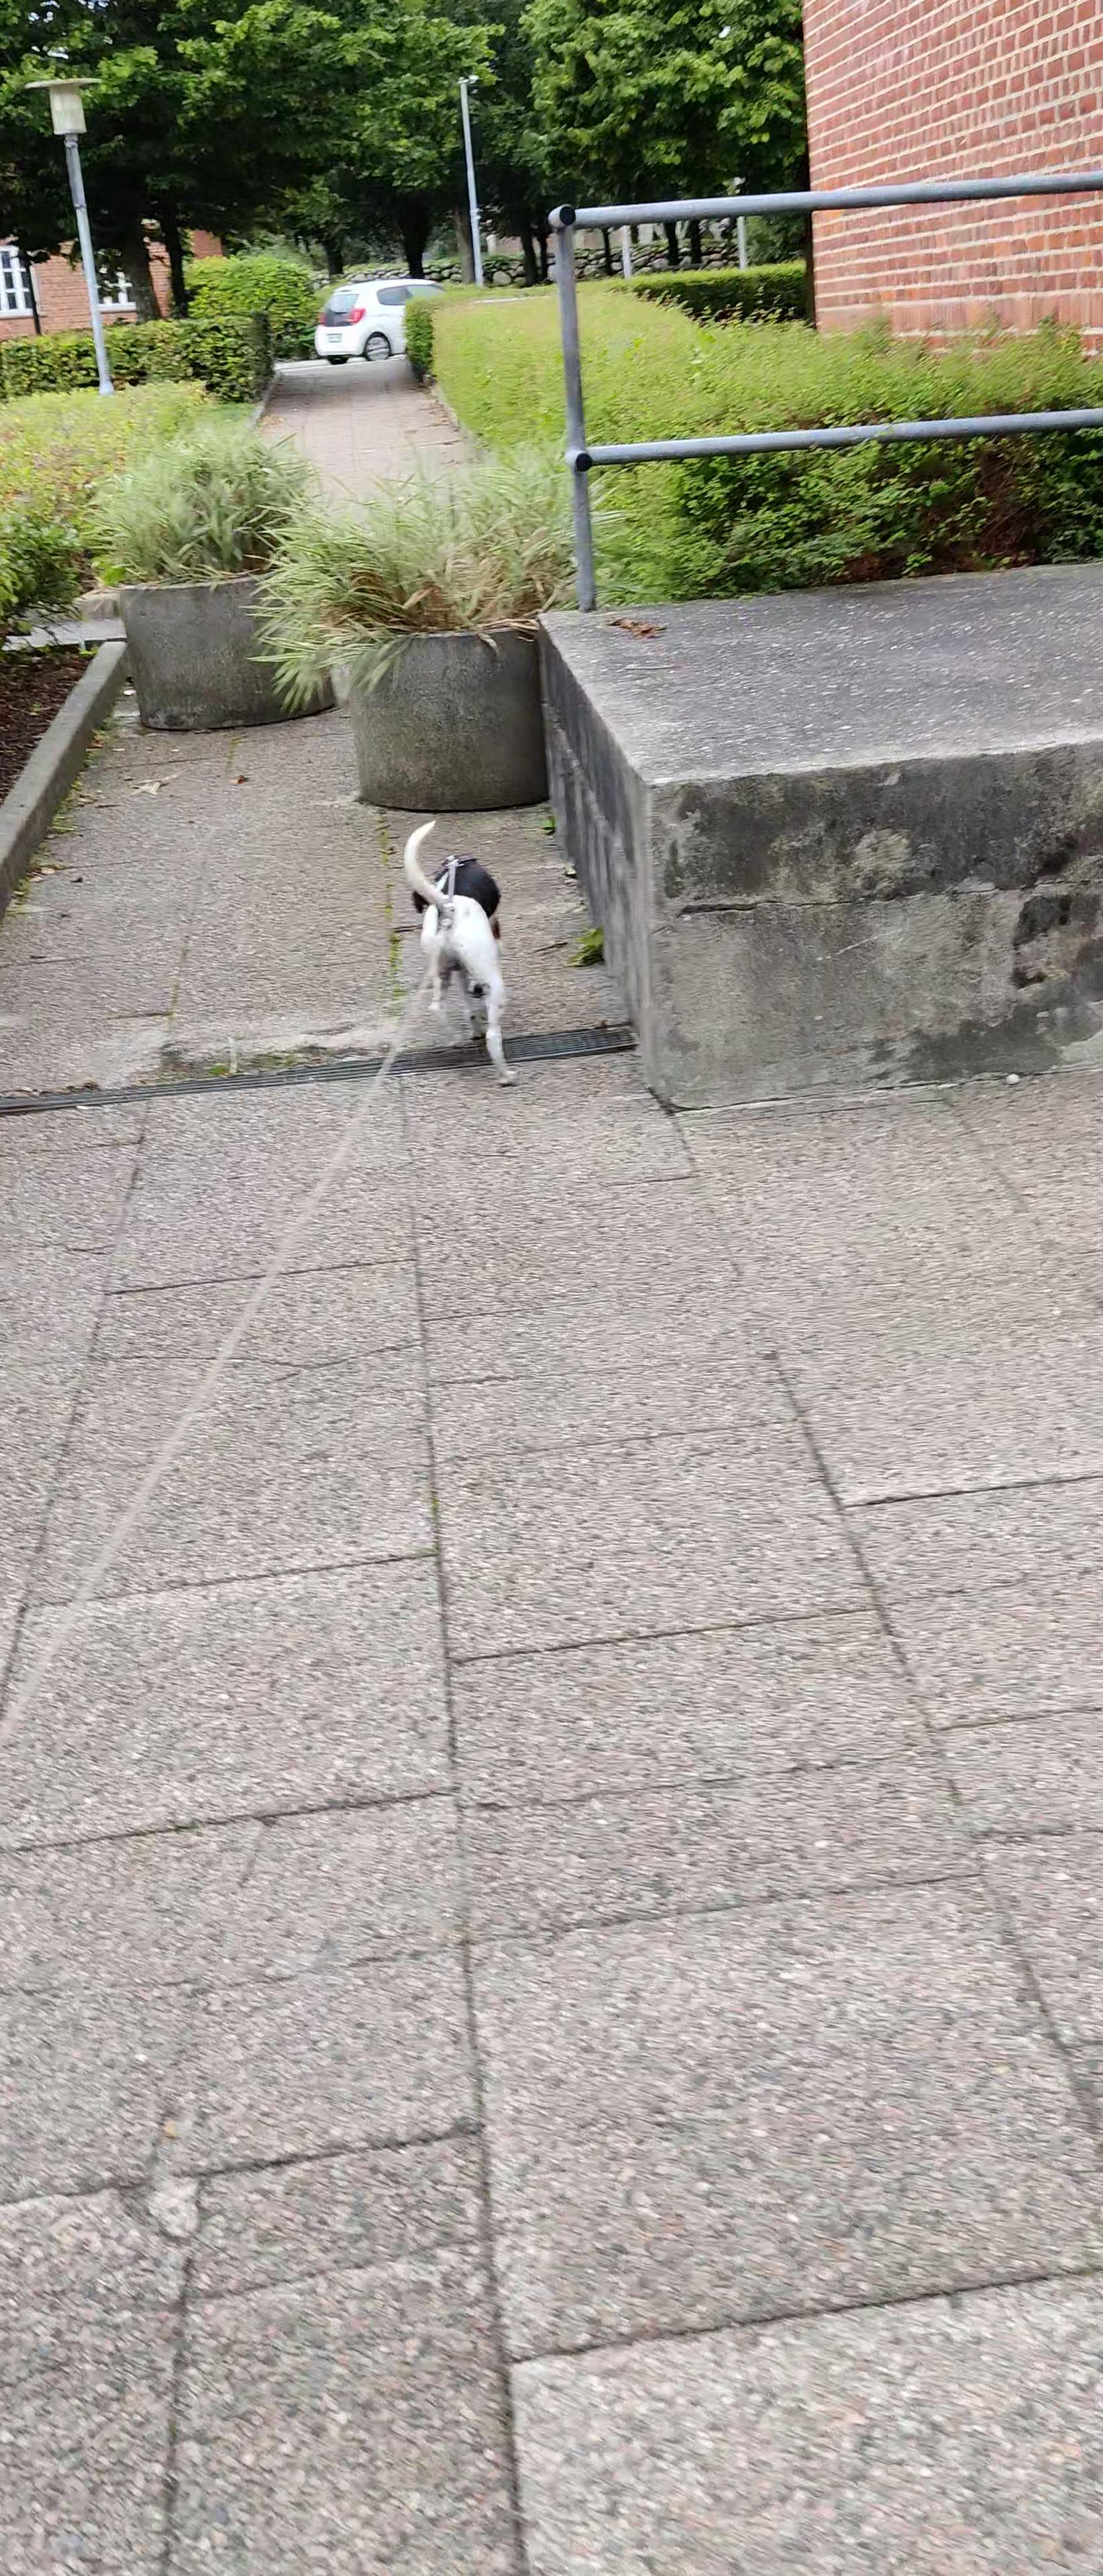Dog: (386, 808, 529, 1091)
